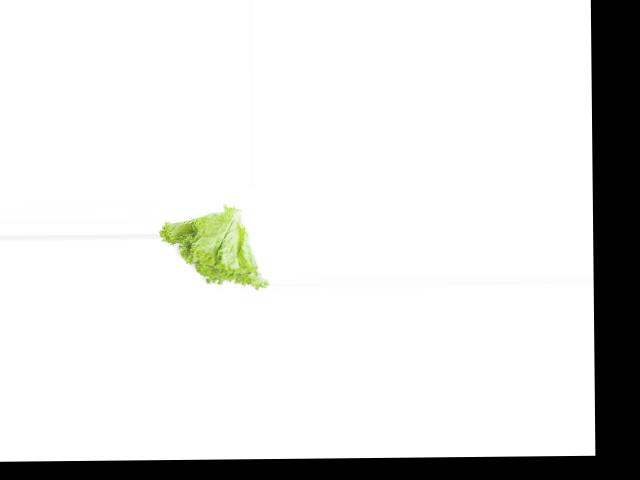lettuce: (158, 207, 270, 293)
